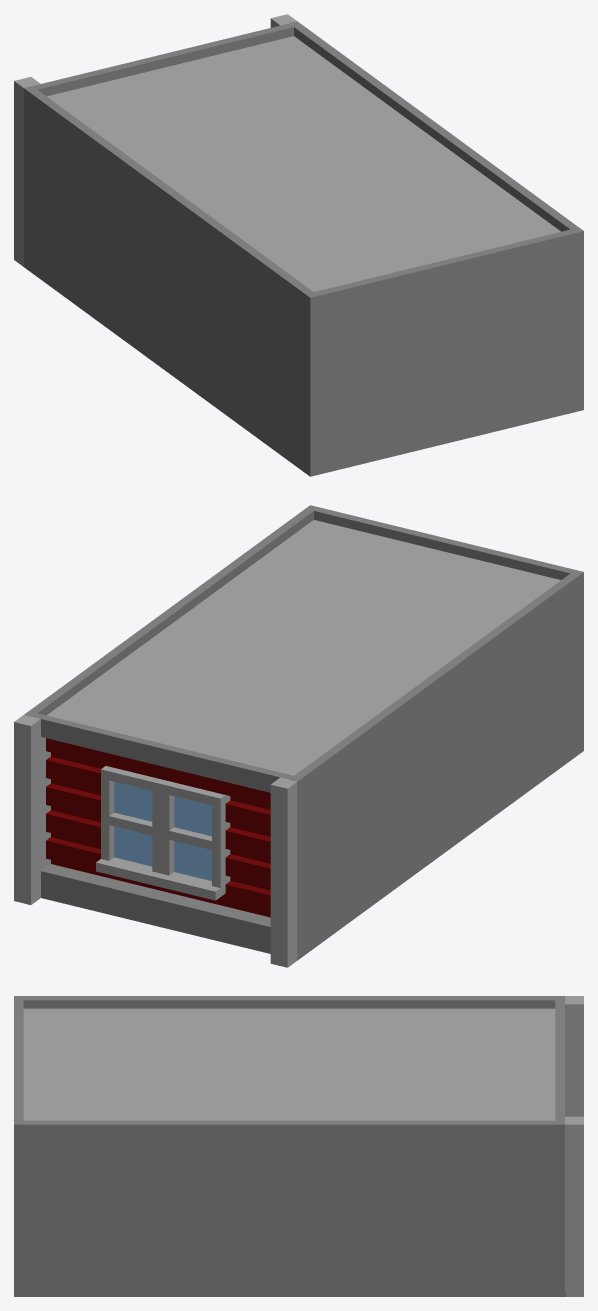
File: obj_story03b.fbx
3 views of the same model, one above another, from view 1: azimuth 30°, elevation 25°; view 2: azimuth 150°, elevation 25°; view 3: azimuth 270°, elevation 25° (orthographic). The views are drawn at different scales.
Visible parts, largest first — view 1: obj_story03b; view 2: obj_story03b; view 3: obj_story03b.
Boxes of the visible parts, x1=… form: obj_story03b: x1=14, y1=14, x2=583, y2=476; obj_story03b: x1=14, y1=505, x2=583, y2=967; obj_story03b: x1=14, y1=996, x2=583, y2=1296.
Bounding box in the file's own units: 3.2 × 6 × 2.
Materials: 1 (1 with a texture image).
